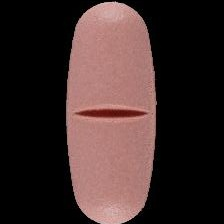62856-582: (0, 0, 224, 224)
